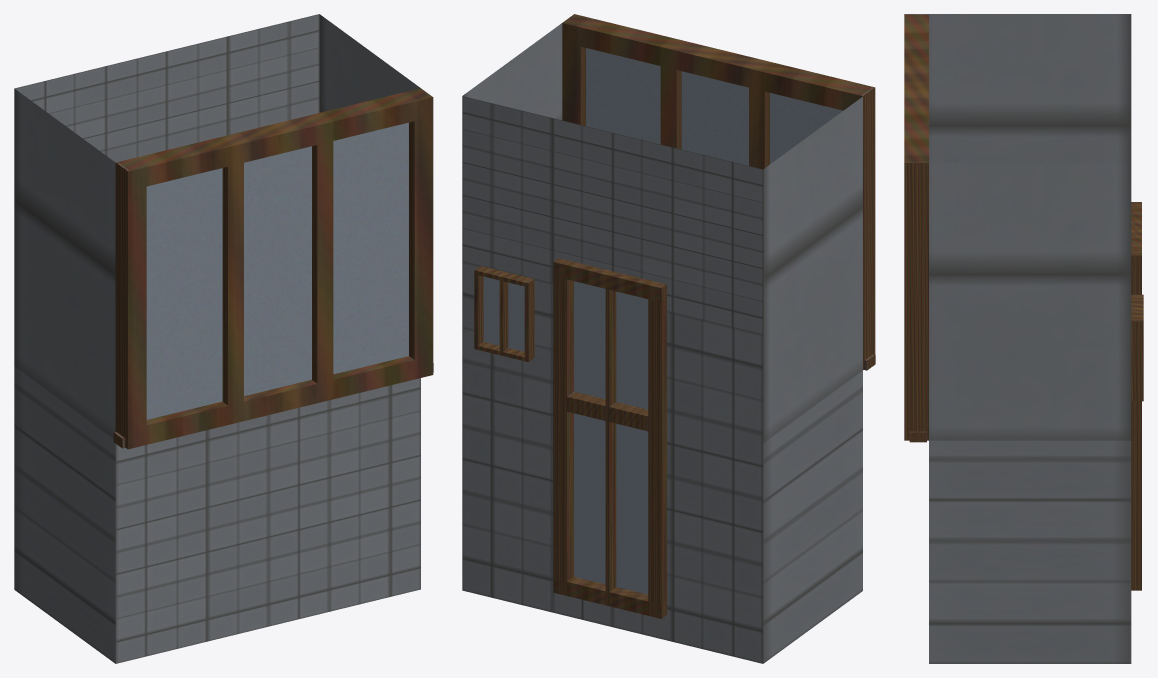
Rendered from balcony.obj.
The picture shows the model from 3 angles, left to right: view 1: azimuth 30°, elevation 25°; view 2: azimuth 150°, elevation 25°; view 3: azimuth 270°, elevation 25°; orthographic projection.
Bounding box in the file's own units: 2.04 × 3.14 × 1.36.
